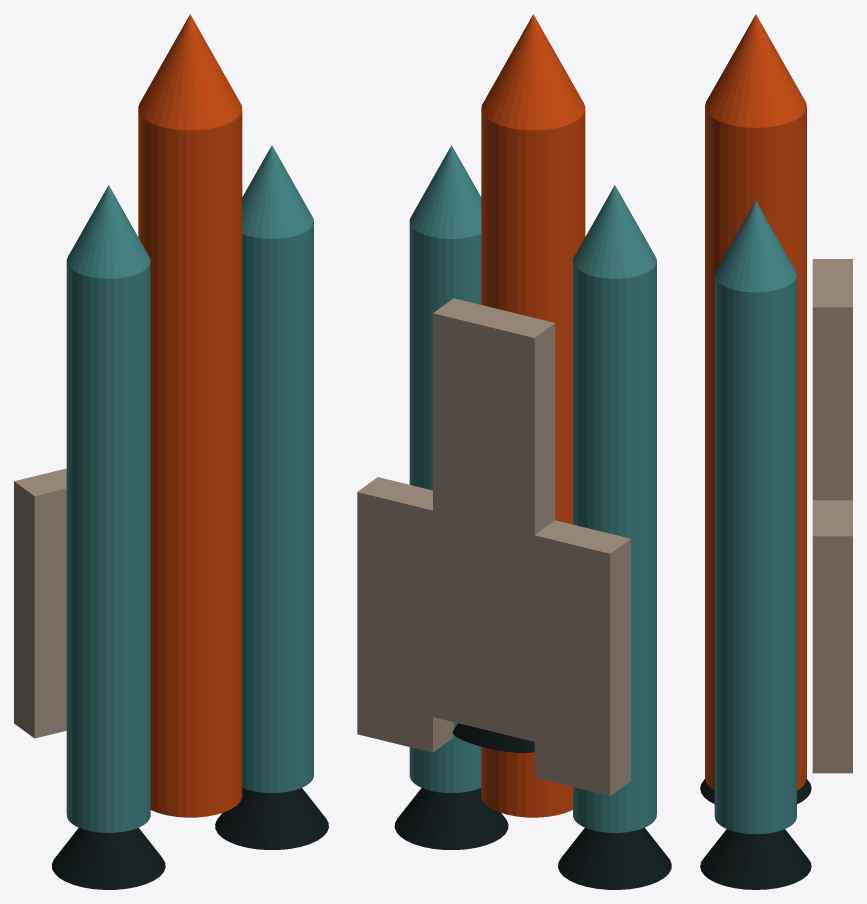
File: SpaceShip.obj
3 renders of one model, left to right at view 1: azimuth 30°, elevation 25°; view 2: azimuth 150°, elevation 25°; view 3: azimuth 270°, elevation 25°, orthographic. The views are drawn at different scales.
Parts seen in each view (by area): view 1: Cylinder_Cylinder.002, Cylinder.001_Cylinder.003, Cylinder.002_Cylinder.004, Cube.001_Cube.002, Cone_Cone.002, Cone.004_Cone.007, Cone.003_Cone.006, Cone.001_Cone.003, Cone.002_Cone.004; view 2: Cube_Cube.001, Cylinder.001_Cylinder.003, Cylinder_Cylinder.002, Cube.001_Cube.002, Cube.002_Cube.003, Cylinder.002_Cylinder.004, Cone_Cone.002, Cone.004_Cone.007, Cone.003_Cone.006, Cone.001_Cone.003, Cone.002_Cone.004, Cone.005_Cone.008; view 3: Cylinder.002_Cylinder.004, Cylinder_Cylinder.002, Cube.002_Cube.003, Cube_Cube.001, Cone_Cone.002, Cone.003_Cone.006, Cone.002_Cone.004, Cone.004_Cone.007.
Boxes of the visible parts, left/top/right/bottom form: Cylinder_Cylinder.002: left=138, top=110, right=242, bottom=817; Cylinder.001_Cylinder.003: left=66, top=261, right=150, bottom=832; Cylinder.002_Cylinder.004: left=242, top=223, right=313, bottom=792; Cube.001_Cube.002: left=14, top=468, right=66, bottom=738; Cone_Cone.002: left=138, top=14, right=242, bottom=130; Cone.004_Cone.007: left=52, top=827, right=165, bottom=889; Cone.003_Cone.006: left=215, top=788, right=328, bottom=849; Cone.001_Cone.003: left=66, top=185, right=150, bottom=278; Cone.002_Cone.004: left=242, top=145, right=313, bottom=238; Cube_Cube.001: left=433, top=298, right=555, bottom=741; Cylinder.001_Cylinder.003: left=573, top=260, right=656, bottom=832; Cylinder_Cylinder.002: left=481, top=110, right=585, bottom=817; Cube.001_Cube.002: left=534, top=520, right=630, bottom=795; Cube.002_Cube.003: left=357, top=477, right=453, bottom=752; Cylinder.002_Cylinder.004: left=409, top=223, right=481, bottom=792; Cone_Cone.002: left=481, top=14, right=585, bottom=130; Cone.004_Cone.007: left=558, top=827, right=671, bottom=889; Cone.003_Cone.006: left=394, top=788, right=508, bottom=849; Cone.001_Cone.003: left=573, top=185, right=656, bottom=278; Cone.002_Cone.004: left=409, top=145, right=481, bottom=238; Cone.005_Cone.008: left=452, top=723, right=534, bottom=752; Cylinder.002_Cylinder.004: left=714, top=275, right=796, bottom=834; Cylinder_Cylinder.002: left=705, top=107, right=806, bottom=790; Cube.002_Cube.003: left=812, top=500, right=852, bottom=773; Cube_Cube.001: left=812, top=259, right=852, bottom=500; Cone_Cone.002: left=705, top=14, right=806, bottom=127; Cone.003_Cone.006: left=700, top=829, right=811, bottom=889; Cone.002_Cone.004: left=715, top=201, right=796, bottom=292; Cone.004_Cone.007: left=700, top=779, right=811, bottom=803.
Size of the model in its own units: 5.8 by 17.61 by 3.
